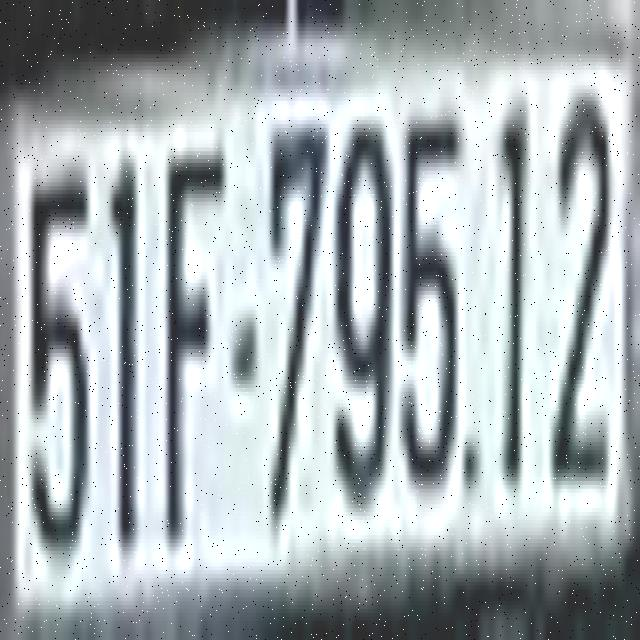1: (108, 144, 140, 558), (497, 91, 526, 487)
2: (551, 85, 611, 489)
5: (29, 155, 91, 563), (401, 101, 460, 489)
7: (267, 103, 327, 529)
9: (334, 109, 391, 508)
F: (163, 128, 225, 551)
